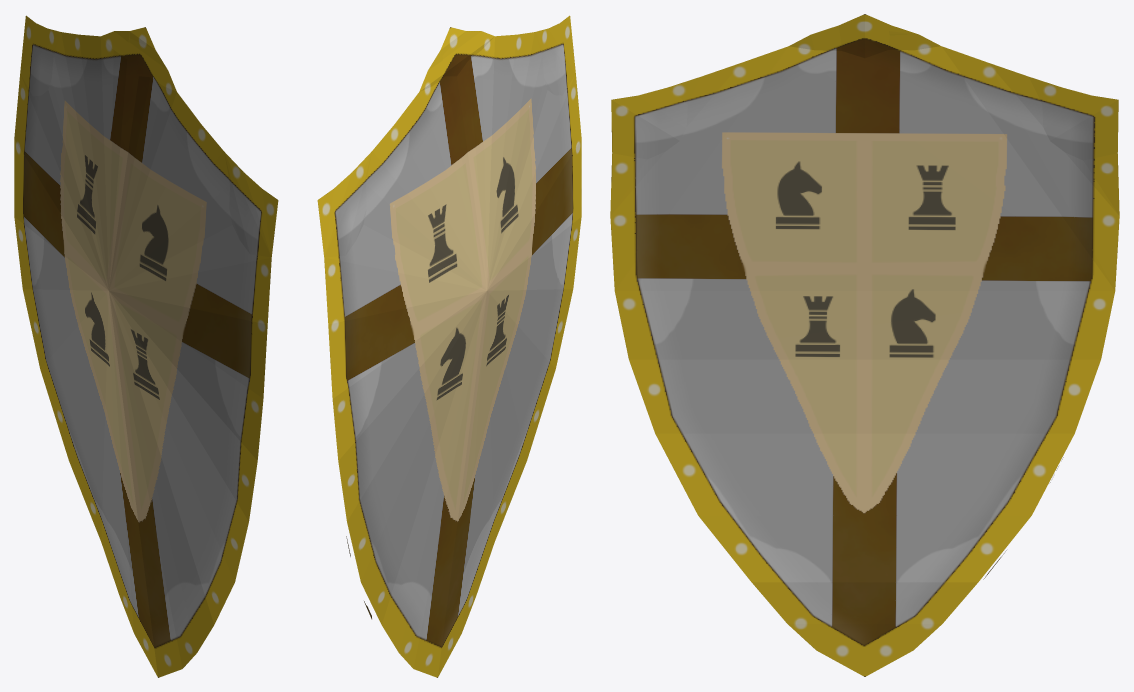
File: CrusaderShield.fbx
3 views of the same model, side by side, from view 1: azimuth 30°, elevation 25°; view 2: azimuth 150°, elevation 25°; view 3: azimuth 270°, elevation 25° (orthographic).
Visible parts, largest first — view 1: Shield; view 2: Shield; view 3: Shield.
Boxes of the visible parts, left/top/right/bottom form: Shield: left=14, top=15, right=278, bottom=677; Shield: left=317, top=15, right=581, bottom=677; Shield: left=610, top=14, right=1119, bottom=676.
Size of the model in its own units: 17.81 by 194 by 136.
